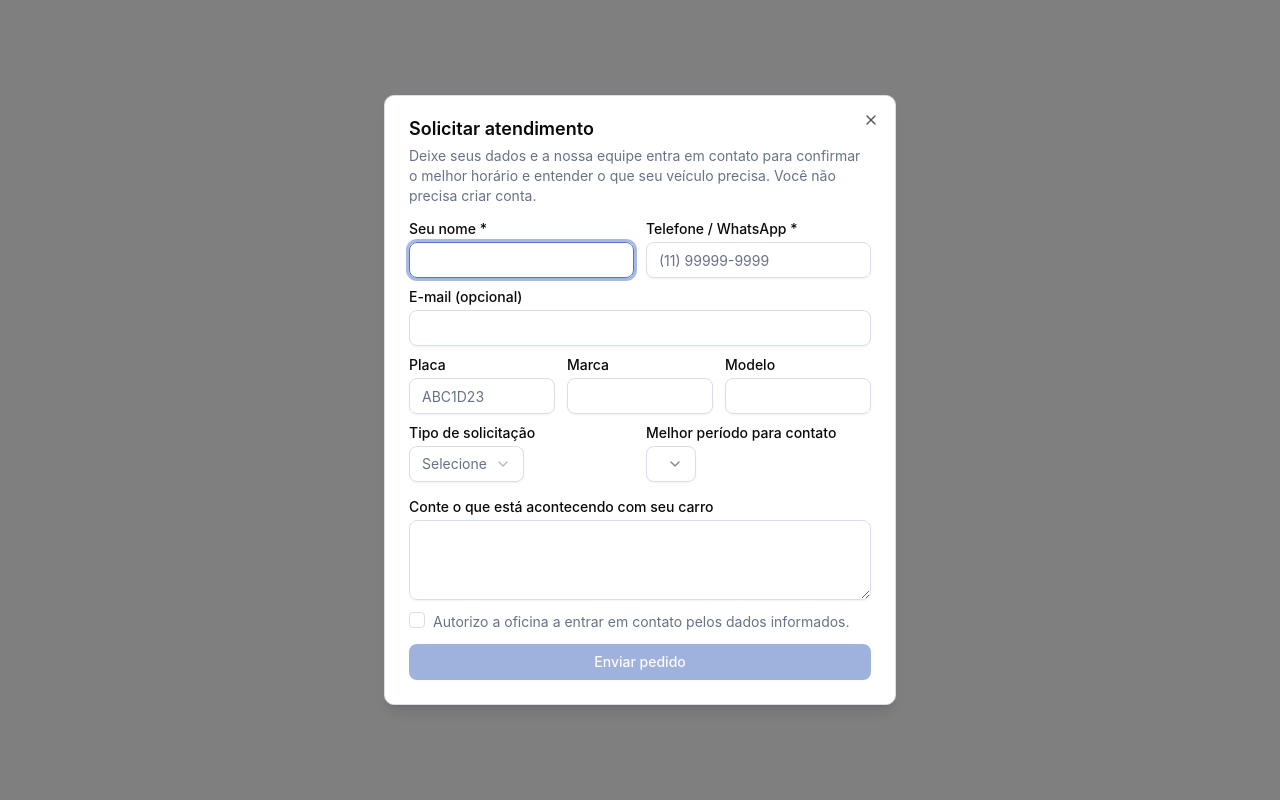
PublicRequestForm › normalizes the plate (uppercase, no separators, max 7)
This screenshot has width=1280, height=800.
Type "abc-1d23xyz" into the field labelled "Placa".
click(482, 396); type("abc-1d23xyz")  # box [409,378,555,414]
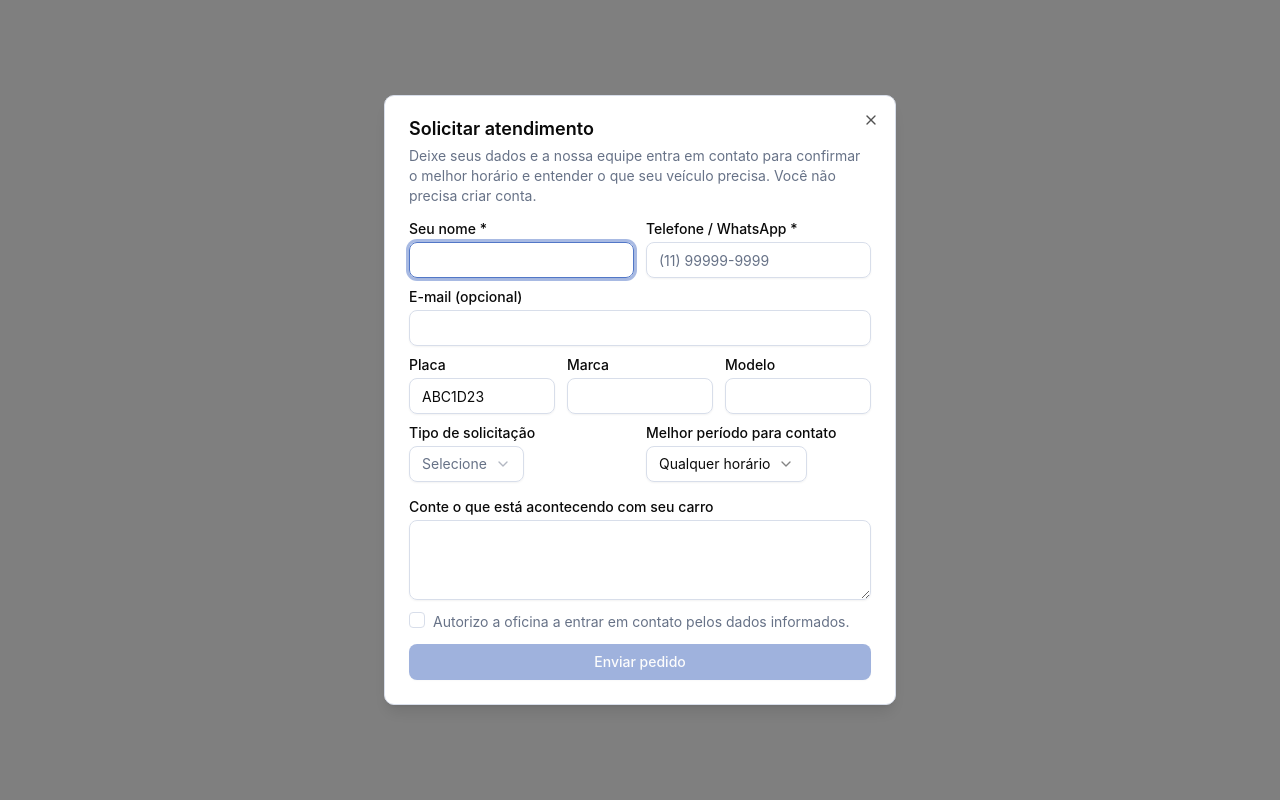
Check: the field labelled "Placa" holds "ABC1D23", box [409,378,555,414]
